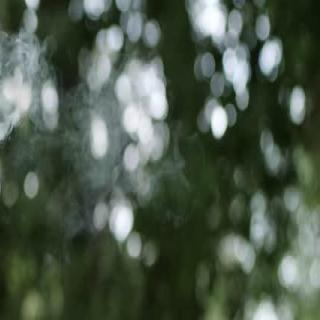smoke: (0, 64, 16, 236)
